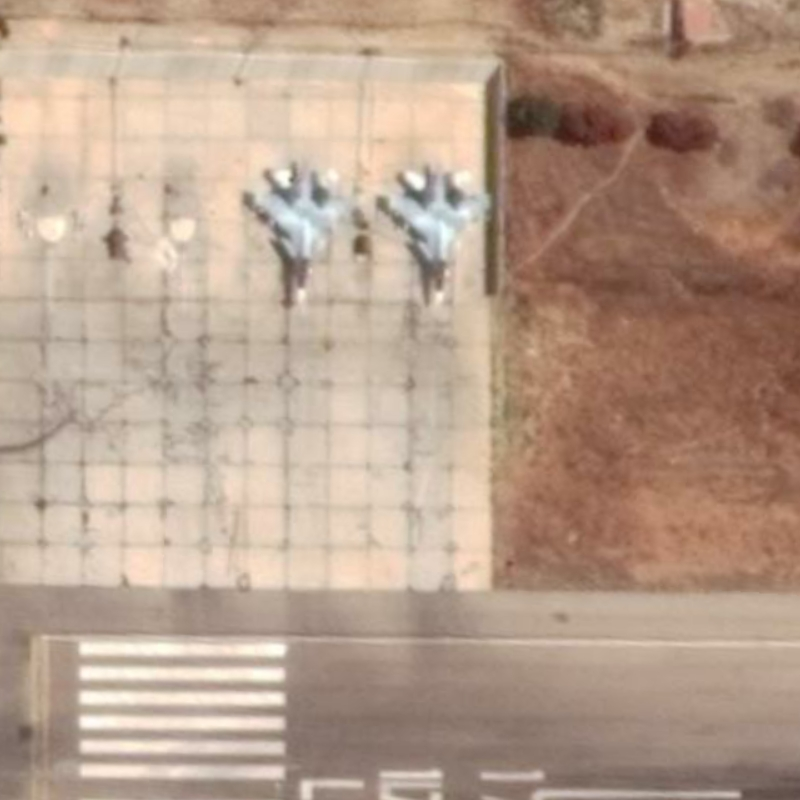A19: (247, 159, 362, 310), (384, 161, 495, 310)
